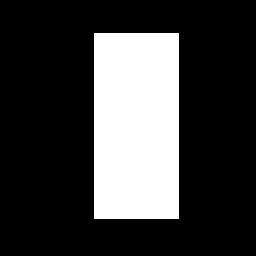person: (94, 33, 178, 218)
